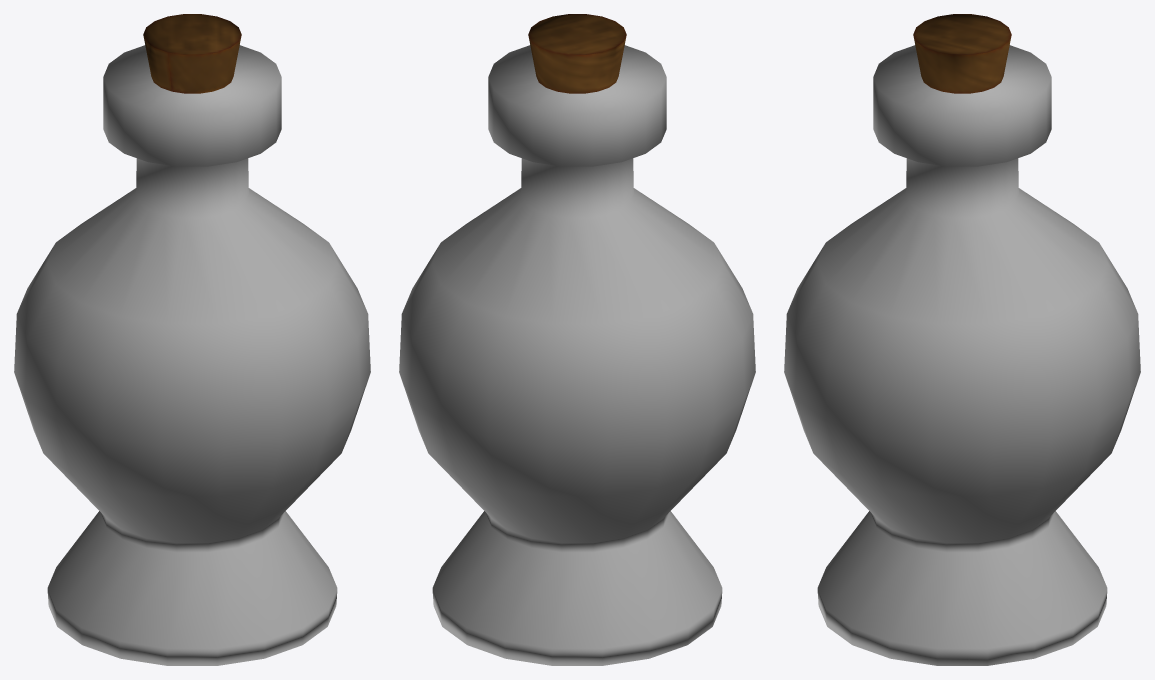
File: FlasksB.fbx
The picture shows the model from 3 angles, left to right: view 1: azimuth 30°, elevation 25°; view 2: azimuth 150°, elevation 25°; view 3: azimuth 270°, elevation 25°; orthographic projection.
Parts seen in each view (by area): view 1: FlasksB; view 2: FlasksB; view 3: FlasksB.
Boxes of the visible parts, x1,y1,x2,y2 form: FlasksB: (14, 14, 370, 665); FlasksB: (399, 14, 755, 665); FlasksB: (784, 14, 1140, 665).
Bounding box in the file's own units: 11.7 × 21.01 × 11.88.
